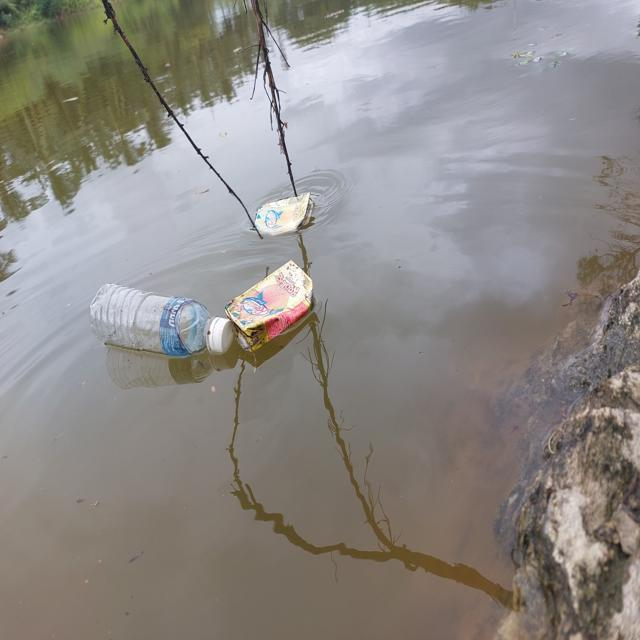paper: (218, 272, 321, 346), (228, 190, 324, 238)
waterbottle: (80, 282, 222, 366)
